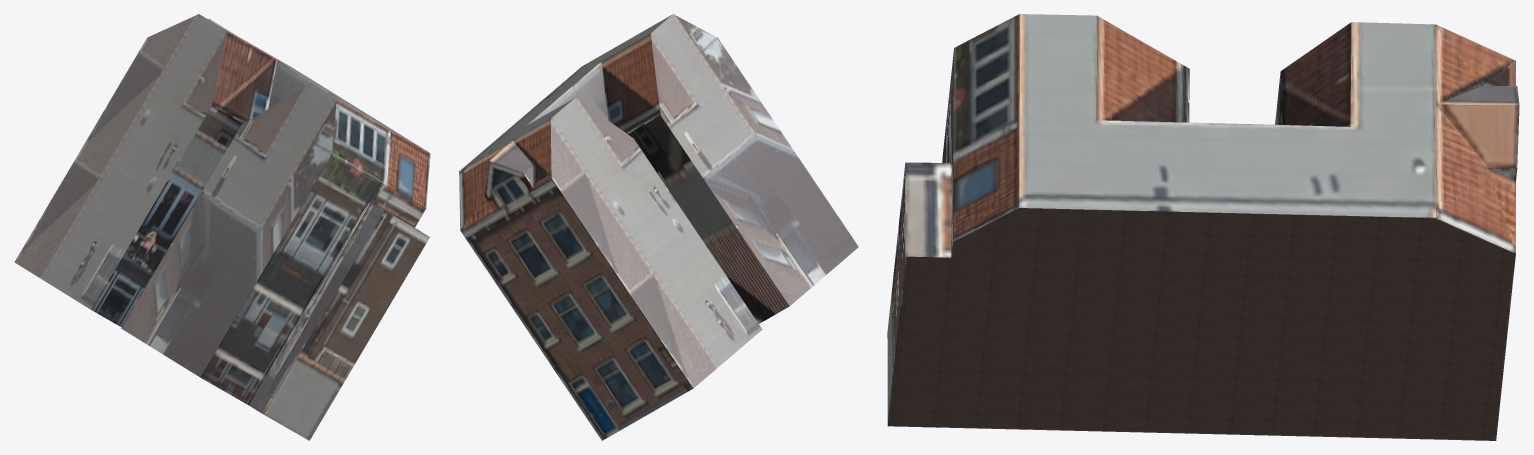
3 views of the same model, side by side, from view 1: azimuth 30°, elevation 25°; view 2: azimuth 150°, elevation 25°; view 3: azimuth 270°, elevation 25° (orthographic). The views are drawn at different scales.
Visible parts, largest first — view 1: BAG_0599100000670776 (×4); view 2: BAG_0599100000670776 (×5); view 3: BAG_0599100000670776 (×6).
Boxes of the visible parts, bbox=[...] form: BAG_0599100000670776 (×4): bbox=[14, 14, 430, 440]; BAG_0599100000670776 (×5): bbox=[459, 14, 858, 440]; BAG_0599100000670776 (×6): bbox=[887, 14, 1519, 440].
Bounding box in the file's own units: 12.93 × 14.35 × 16.87.
6 materials, 6 textured.
